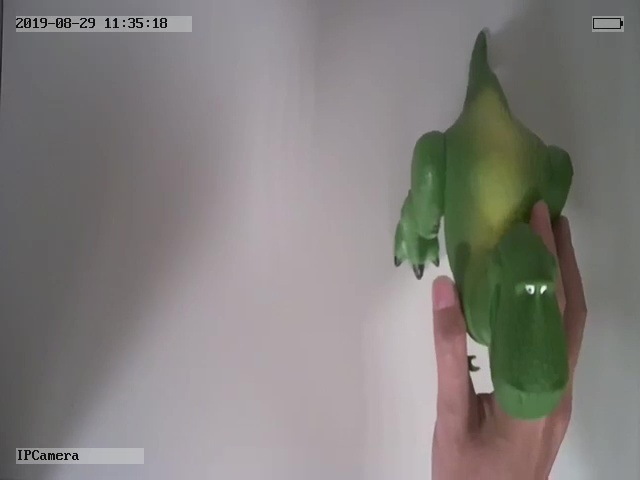rex: (390, 28, 575, 420)
